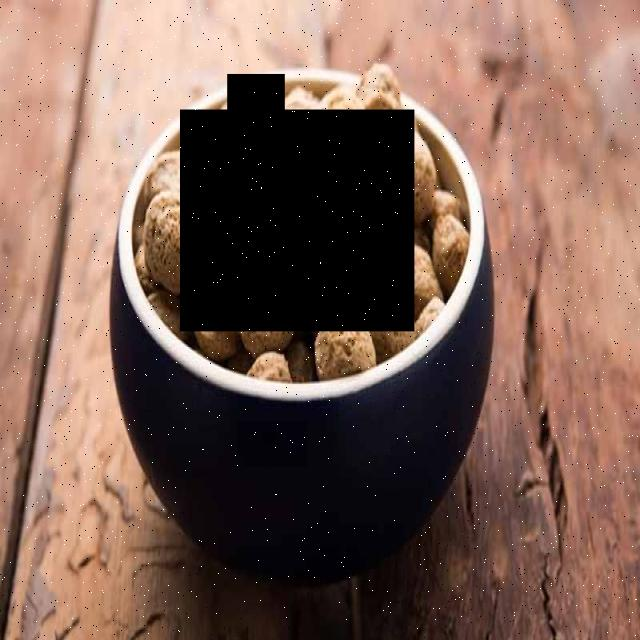Nutrela: (180, 110, 415, 332), (228, 74, 285, 161)
